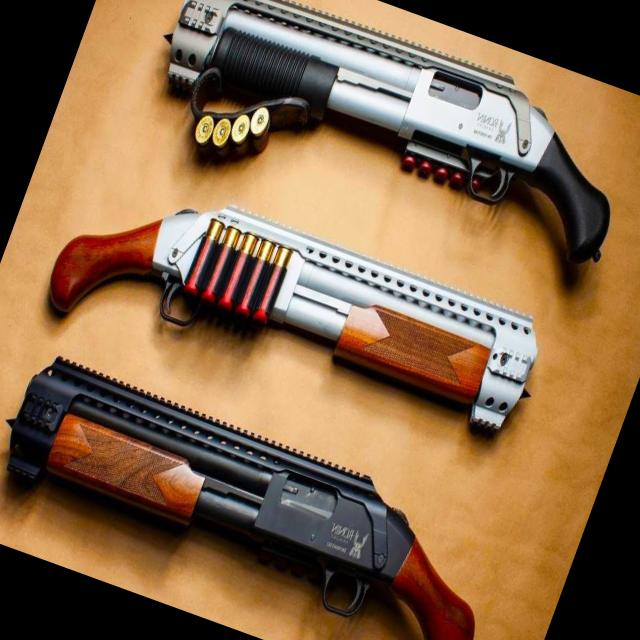Weapon: (31, 150, 557, 478), (120, 0, 640, 315), (0, 337, 530, 640)
